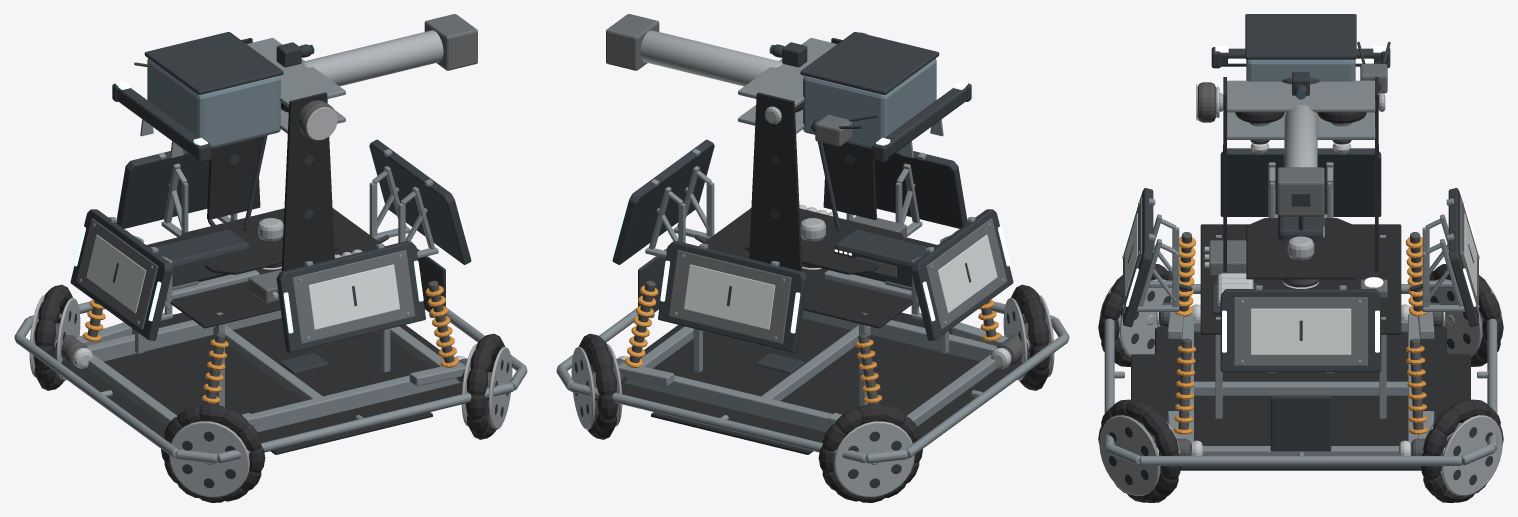
Rendered from robot-102-spec2026v3.glb.
3 renders of one model, left to right at view 1: azimuth 30°, elevation 25°; view 2: azimuth 150°, elevation 25°; view 3: azimuth 270°, elevation 25°, orthographic.
Parts seen in each view (by area): view 1: Chassis_CarbonPlate, Chassis_RobotMatteAluminum, Turret_CarbonPlate, MagazineBox, MagazineLid, ArmorModuleBody.001, ArmorModuleBody, Chassis_RobotMatteGraphite, GunPitch_MachinedAlloy, ArmorHitFace.003, ArmorSticker.003, Wheel_0_MachinedAlloy (+19 smaller); view 2: Chassis_CarbonPlate, Chassis_RobotMatteAluminum, Turret_CarbonPlate, MagazineBox, MagazineLid, ArmorModuleBody.003, ArmorModuleBody, Chassis_RobotMatteGraphite, GunPitch_MachinedAlloy, ArmorHitFace.001, ArmorSticker.001, Wheel_1_MachinedAlloy (+20 smaller); view 3: Chassis_CarbonPlate, Chassis_RobotMatteAluminum, ArmorModuleBody.002, Turret_CarbonPlate, GunPitch_RobotMatteAluminum, MagazineLid, ArmorSticker, Chassis_RobotMatteGraphite, ArmorHitFace, ArmorModuleBody, Chassis_SpringSteelOrange, Chassis_MotorHousing (+28 smaller).
Boxes of the visible parts, x1,y1,x2,y2 form: Chassis_CarbonPlate: (54,208,462,454); Chassis_RobotMatteAluminum: (14,270,527,463); Turret_CarbonPlate: (177,38,338,274); MagazineBox: (147,58,280,148); MagazineLid: (144,32,283,94); ArmorModuleBody.001: (116,136,262,228); ArmorModuleBody: (369,139,471,264); Chassis_RobotMatteGraphite: (155,229,445,373); GunPitch_MachinedAlloy: (301,30,443,86); ArmorHitFace.003: (292,250,415,343); ArmorSticker.003: (308,264,399,329); Wheel_0_MachinedAlloy: (169,421,249,497); Chassis_CarbonPlate: (621,208,1029,454); Chassis_RobotMatteAluminum: (556,270,1069,463); Turret_CarbonPlate: (745,38,906,274); MagazineBox: (803,58,936,148); MagazineLid: (800,32,939,94); ArmorModuleBody.003: (823,143,967,228); ArmorModuleBody: (612,139,714,264); Chassis_RobotMatteGraphite: (638,229,928,373); GunPitch_MachinedAlloy: (640,30,782,86); ArmorHitFace.001: (668,250,791,343); ArmorSticker.001: (684,264,775,329); Wheel_1_MachinedAlloy: (834,421,914,497); Chassis_CarbonPlate: (1131,224,1470,470); Chassis_RobotMatteAluminum: (1104,214,1497,465); ArmorModuleBody.002: (1220,148,1381,216); Turret_CarbonPlate: (1223,77,1378,279); GunPitch_RobotMatteAluminum: (1226,80,1375,139); MagazineLid: (1245,14,1356,59); ArmorSticker: (1250,308,1351,354); Chassis_RobotMatteGraphite: (1153,216,1448,451); ArmorHitFace: (1234,297,1367,365); ArmorModuleBody: (1220,289,1381,372); Chassis_SpringSteelOrange: (1174,236,1427,434); Chassis_MotorHousing: (1159,232,1442,455).
Bounding box in the file's own units: 0.7247 × 0.672 × 0.6674.
